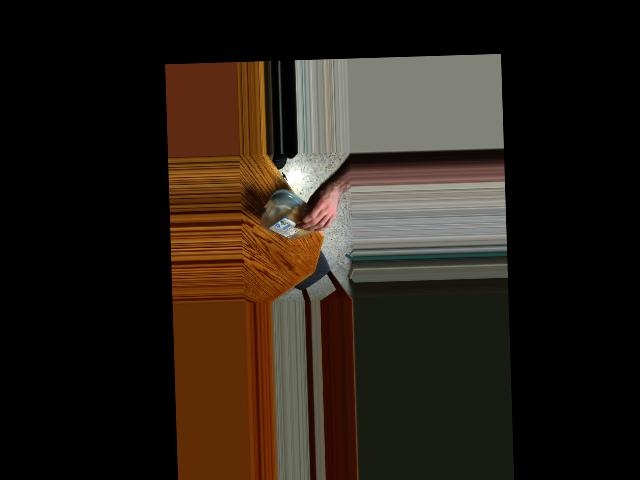cheese: (257, 189, 324, 243)
